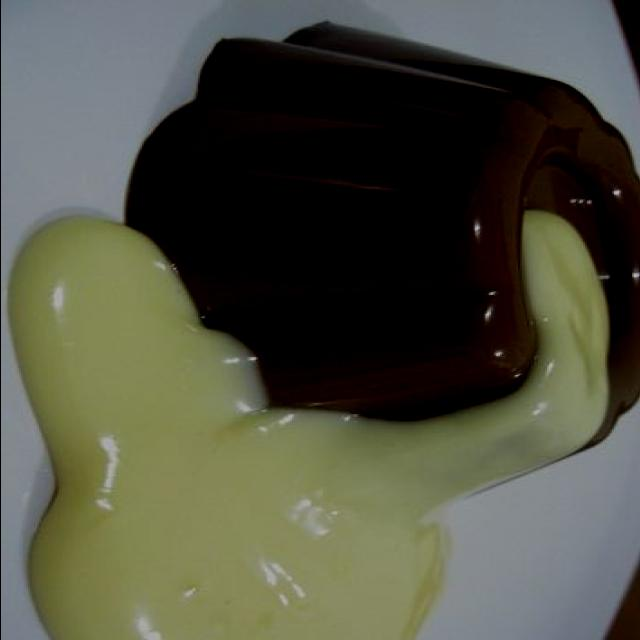puding: (7, 20, 640, 640)
